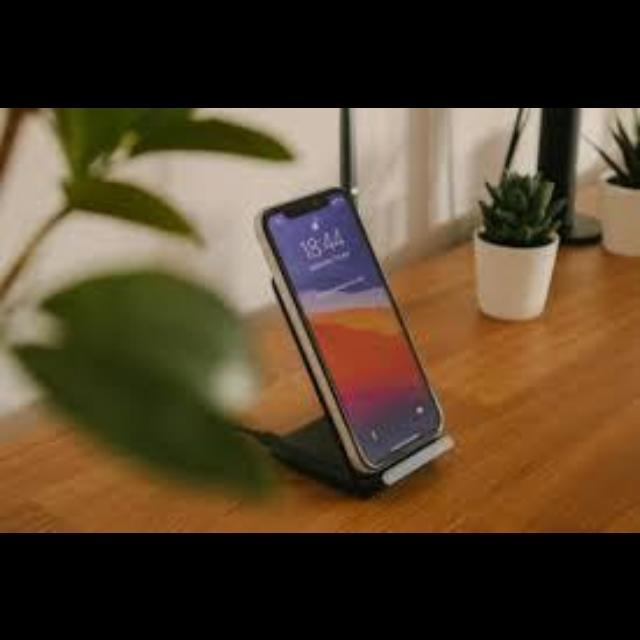PhoneUse: (258, 185, 444, 471)
